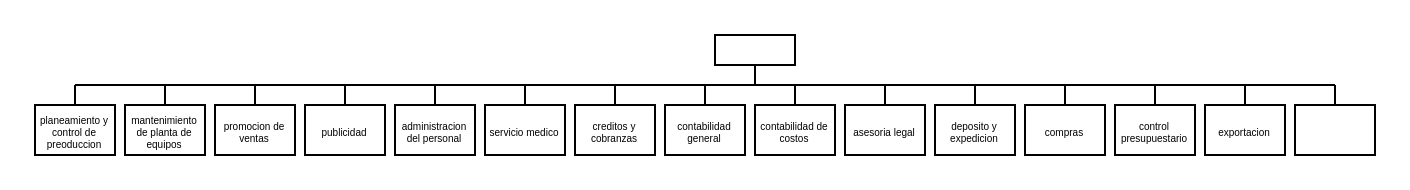
Some shapes in this 1410 by 190 pixel diagram are drawn without their labels. Each missing label, with the centre of its shape:
"Directorio" goes at pixel 754 49.
"tesoreria" goes at pixel 1334 129.
